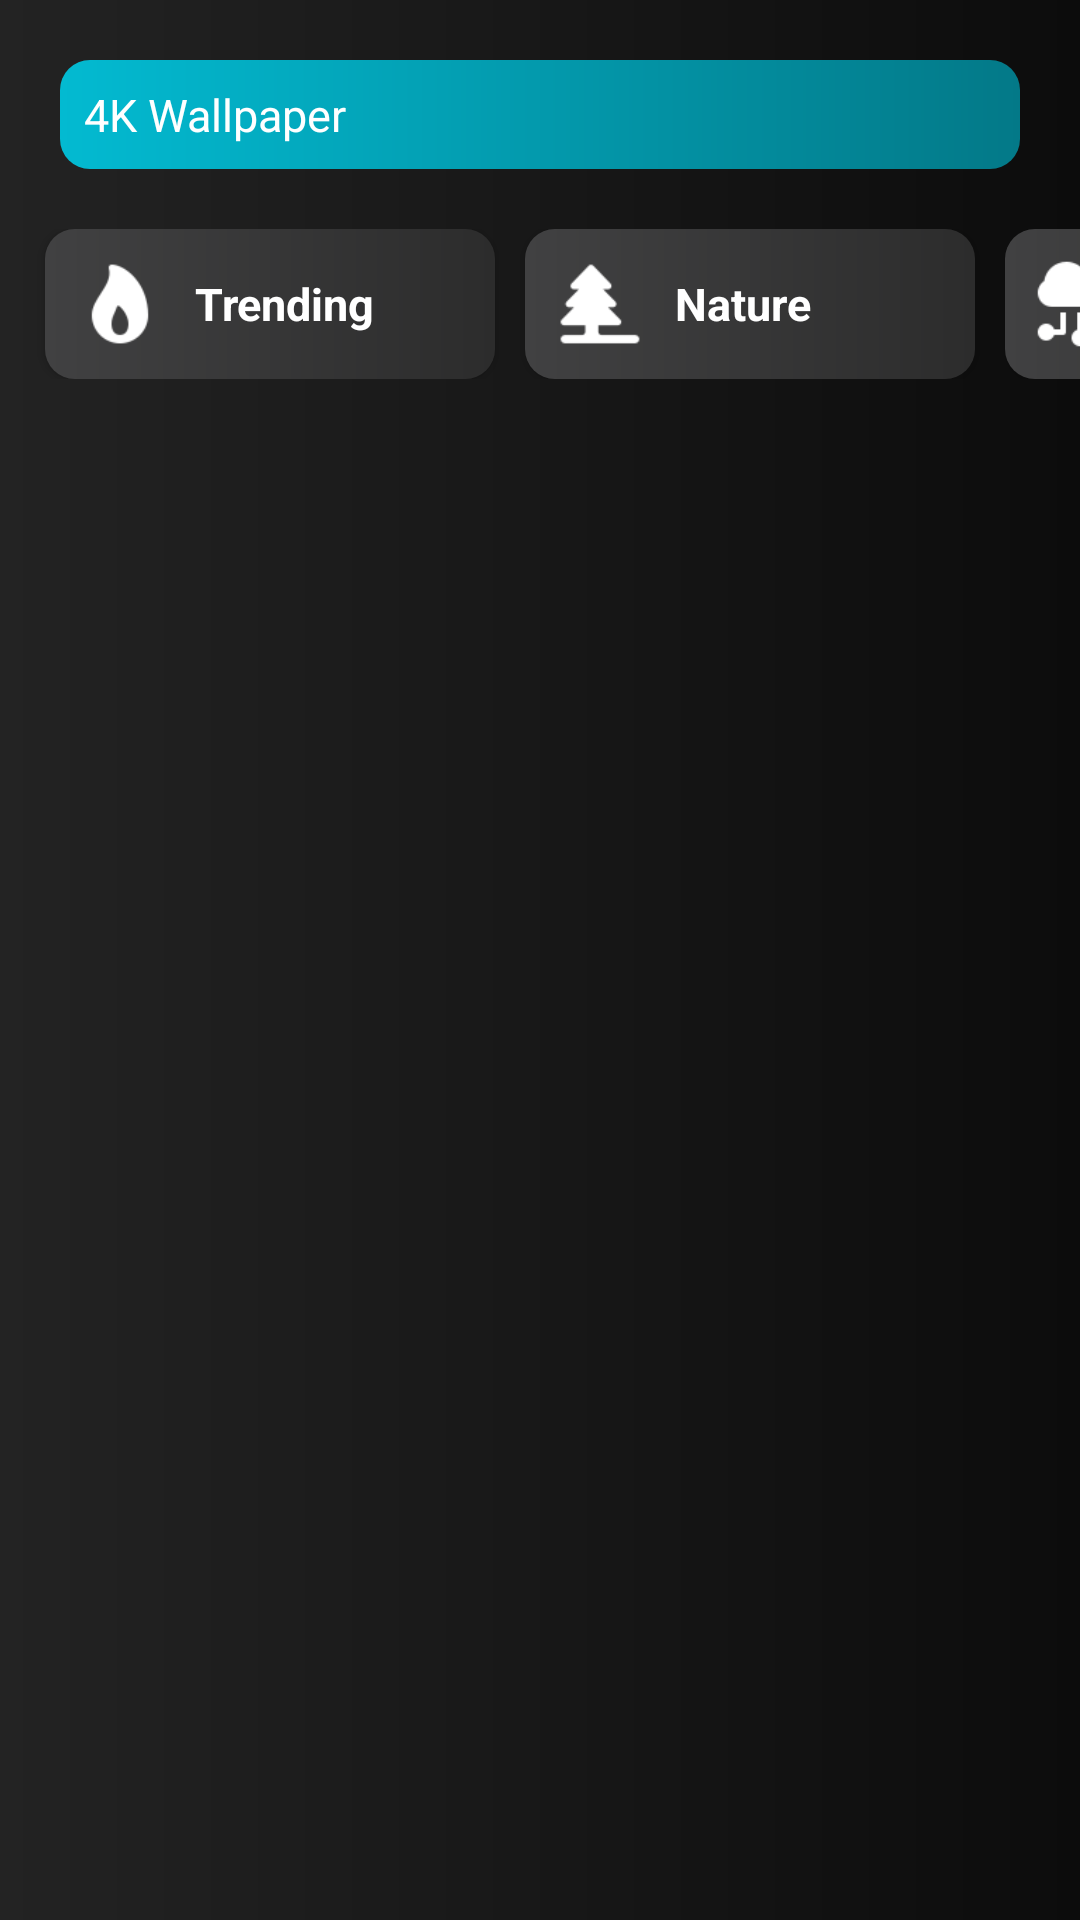

Where icons sit on this 1080w x 1920h app screen, as [x1,y1,x2,y2]:
flame: [91,264,149,344]
